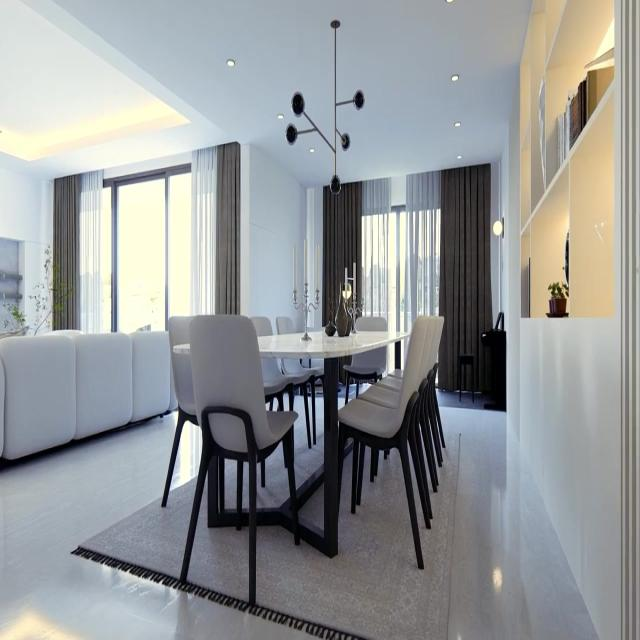obstacle: (169, 328, 411, 562), (182, 314, 300, 608), (0, 327, 174, 462), (339, 313, 429, 572)
